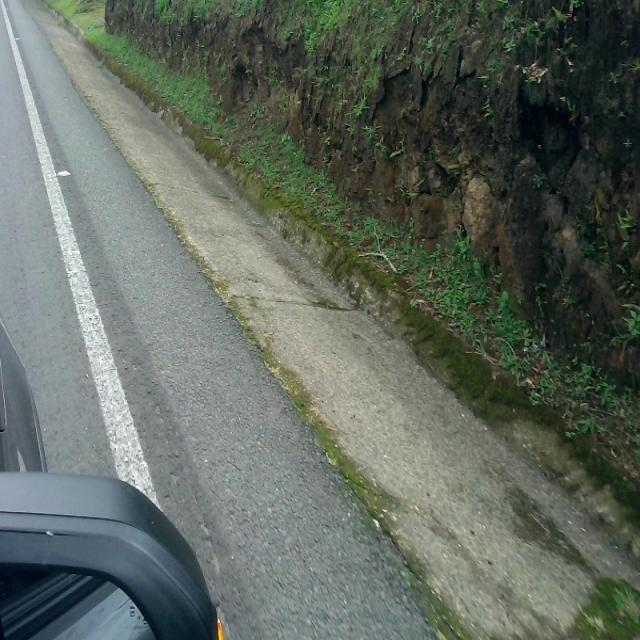DITCH: (16, 1, 638, 638), (1, 25, 638, 640)
